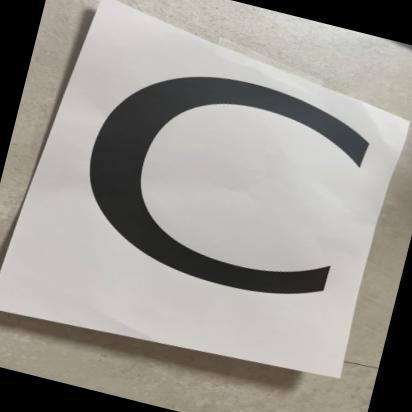seat: (22, 0, 401, 383)
